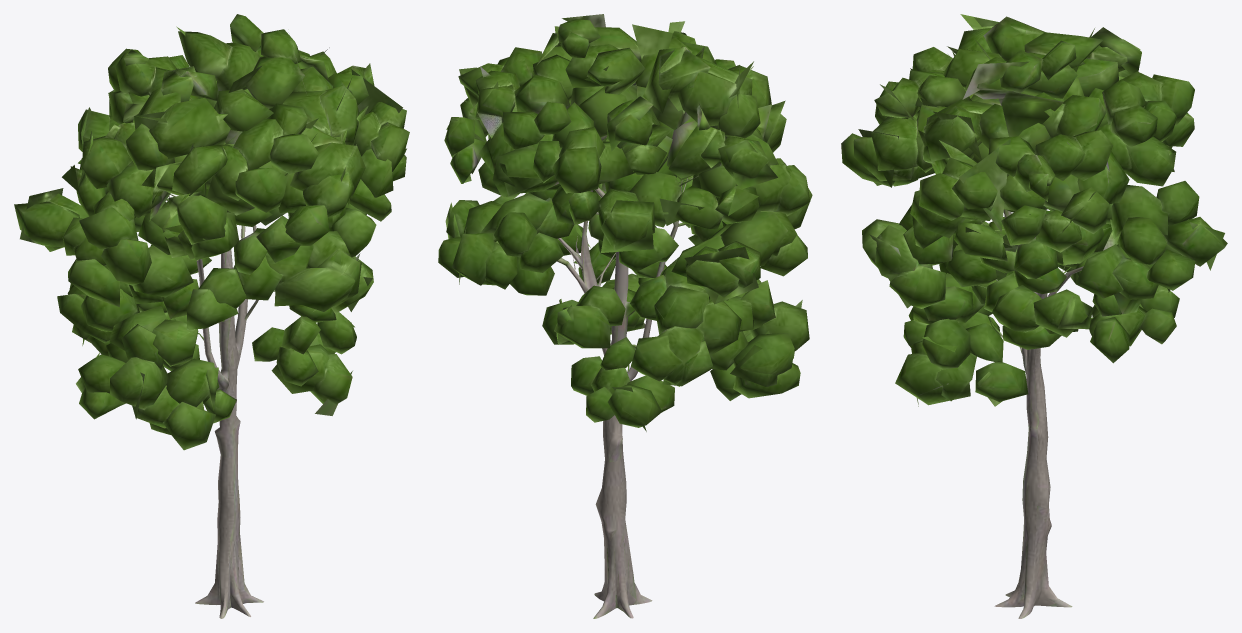
File: arbre_platane.glb
3 renders of one model, left to right at view 1: azimuth 30°, elevation 25°; view 2: azimuth 150°, elevation 25°; view 3: azimuth 270°, elevation 25°, orthographic.
Visible parts, largest first — view 1: rue_arbre_platane; view 2: rue_arbre_platane; view 3: rue_arbre_platane.
Boxes of the visible parts, x1=… form: rue_arbre_platane: x1=14, y1=14, x2=409, y2=618; rue_arbre_platane: x1=438, y1=14, x2=812, y2=618; rue_arbre_platane: x1=841, y1=14, x2=1227, y2=618.
Bounding box in the file's own units: 5.19 × 8.5 × 5.17.
1 material, 1 textured.
